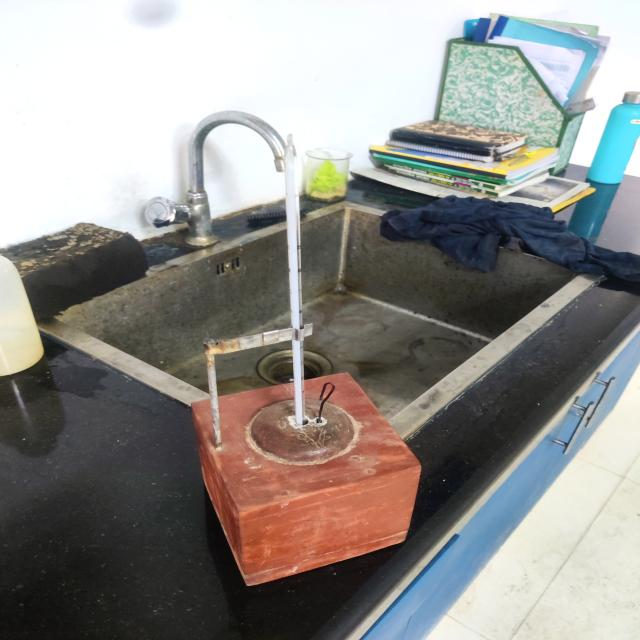Calorimeter: (170, 123, 442, 595)
